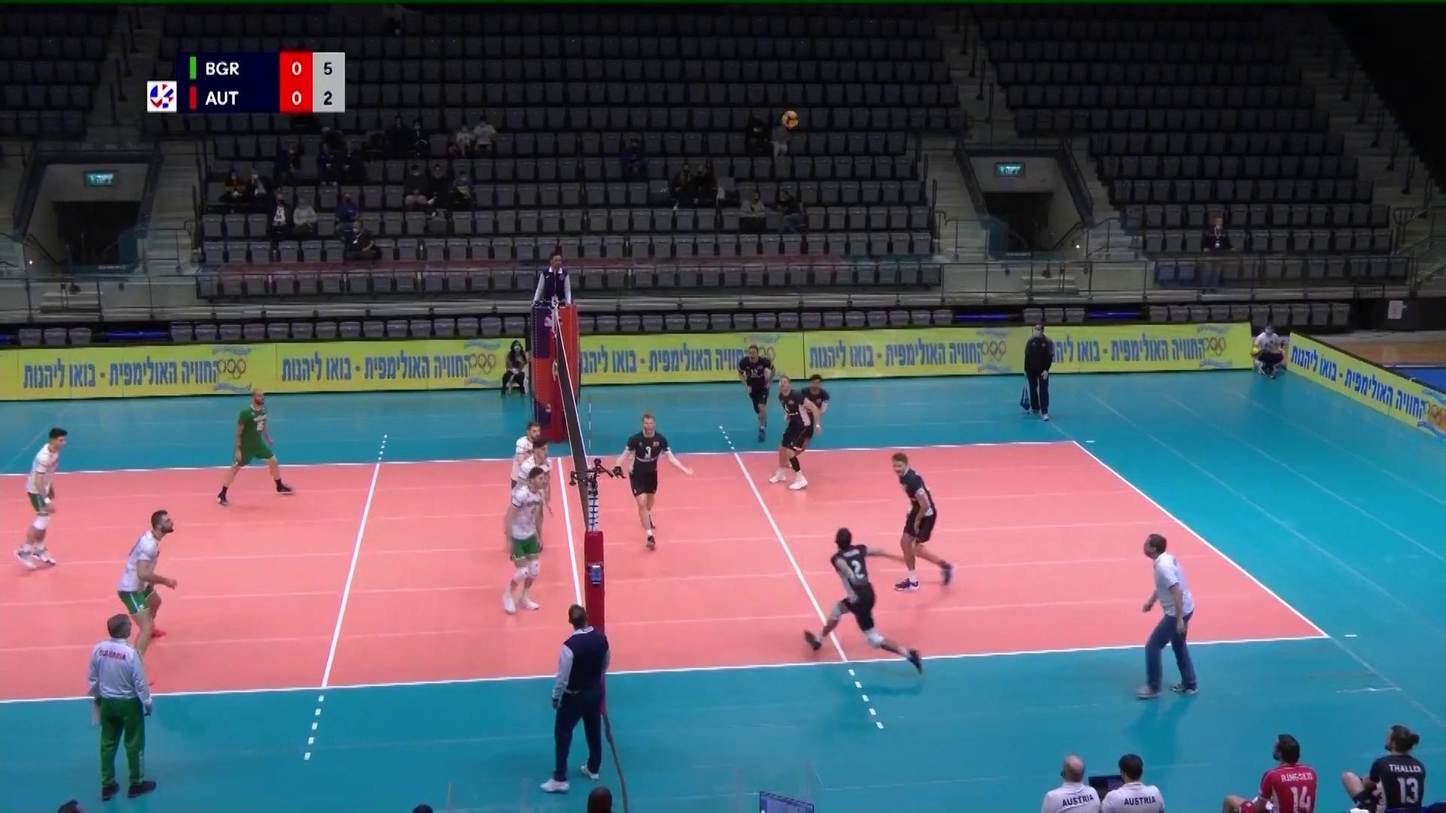ball: (780, 109, 801, 129)
